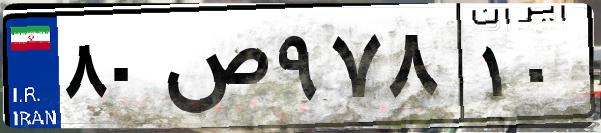0: (525, 38, 570, 115), (110, 28, 158, 98)
1: (475, 38, 525, 113)
7: (330, 28, 385, 110)
8: (385, 28, 445, 110), (57, 26, 110, 100)
9: (270, 28, 330, 110)
ص: (158, 20, 270, 120)
